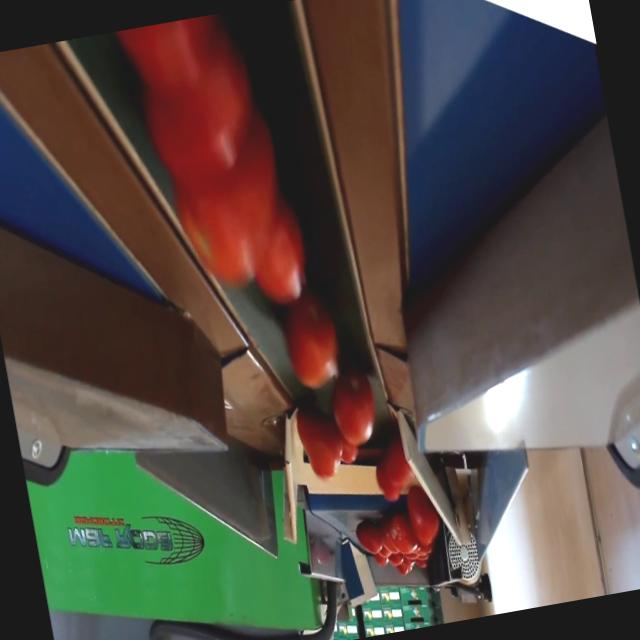Tomato: (166, 126, 298, 296), (140, 54, 260, 190), (122, 15, 220, 102), (277, 298, 343, 392), (247, 215, 312, 309), (288, 400, 348, 484), (324, 368, 384, 446), (368, 440, 416, 502), (409, 487, 444, 545), (385, 510, 420, 556), (353, 516, 386, 554)
